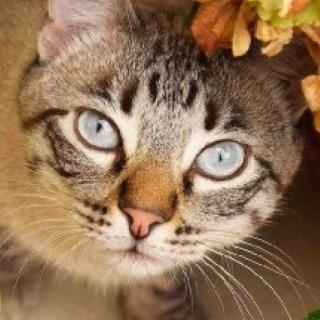cat: (10, 0, 320, 283)
nose: (115, 172, 180, 246)
